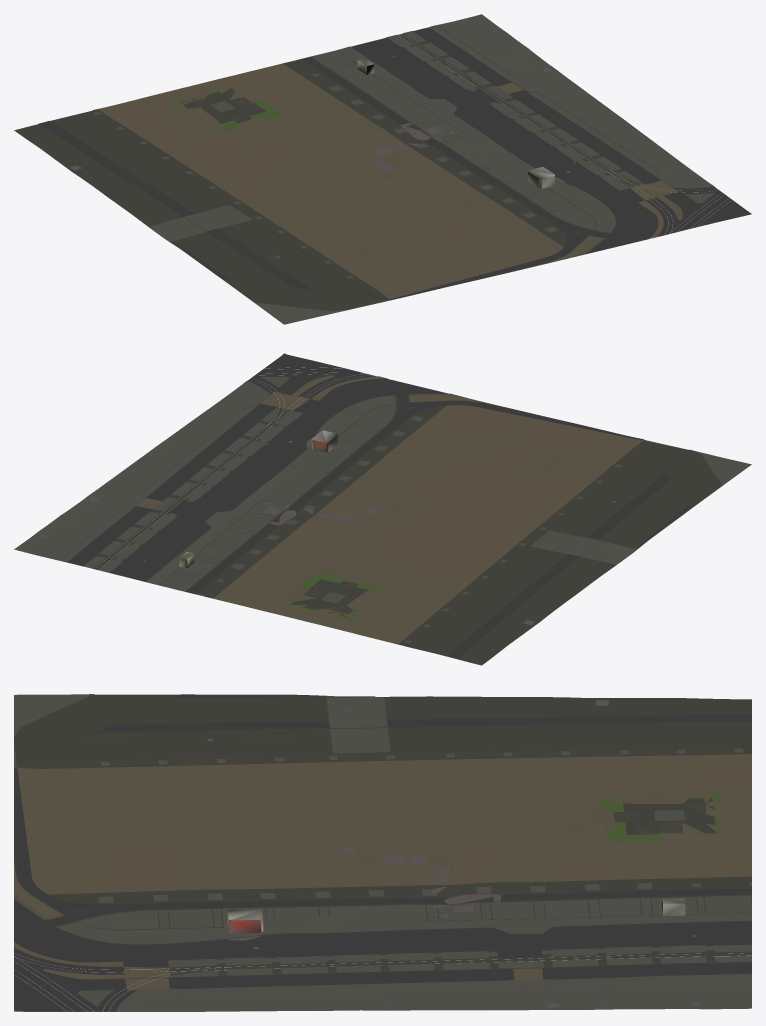
3 views of the same model, one above another, from view 1: azimuth 30°, elevation 25°; view 2: azimuth 150°, elevation 25°; view 3: azimuth 270°, elevation 25° (orthographic). The views are drawn at different scales.
Visible parts, largest first — view 1: c_m04_m02; view 2: c_m04_m02; view 3: c_m04_m02.
Part boxes in pixels (left/top/right/bottom): c_m04_m02: left=14, top=14, right=751, bottom=324; c_m04_m02: left=14, top=353, right=751, bottom=665; c_m04_m02: left=14, top=694, right=751, bottom=1011.
Size of the model in its own units: 128 by 3.08 by 128.
